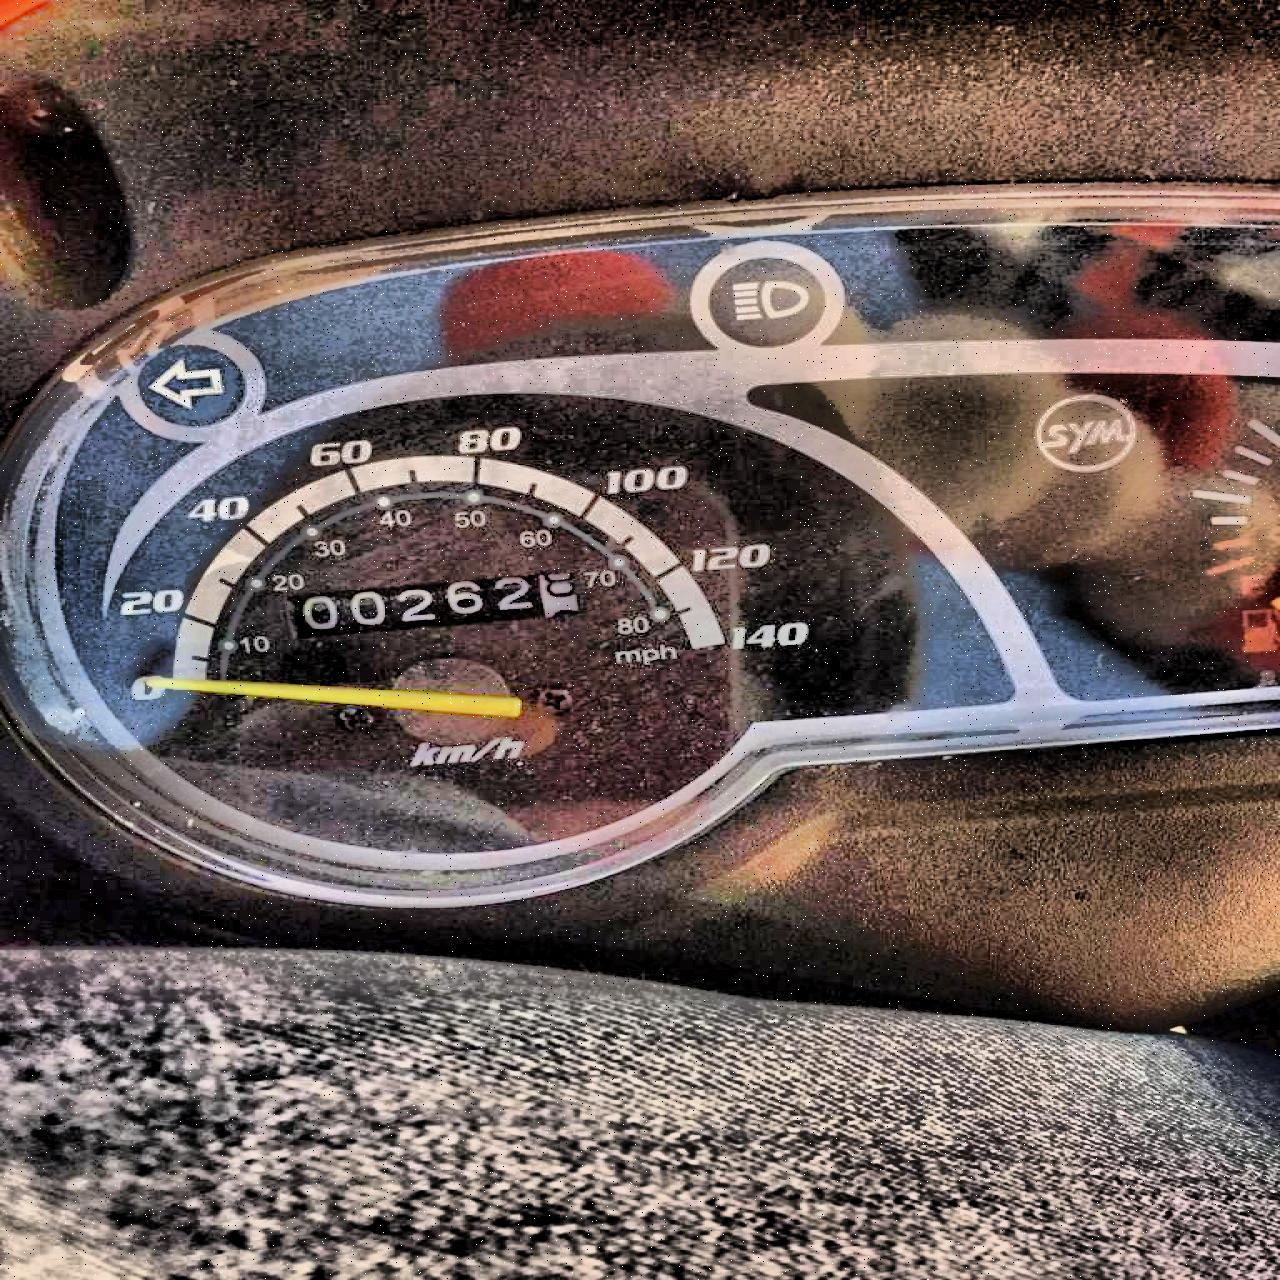0: (347, 588, 387, 625), (299, 594, 339, 629), (288, 571, 304, 590)
2: (395, 585, 437, 622), (492, 576, 536, 611), (277, 573, 288, 591)
6: (443, 578, 485, 613)
8: (538, 570, 579, 599)
odometer: (274, 566, 584, 641)
